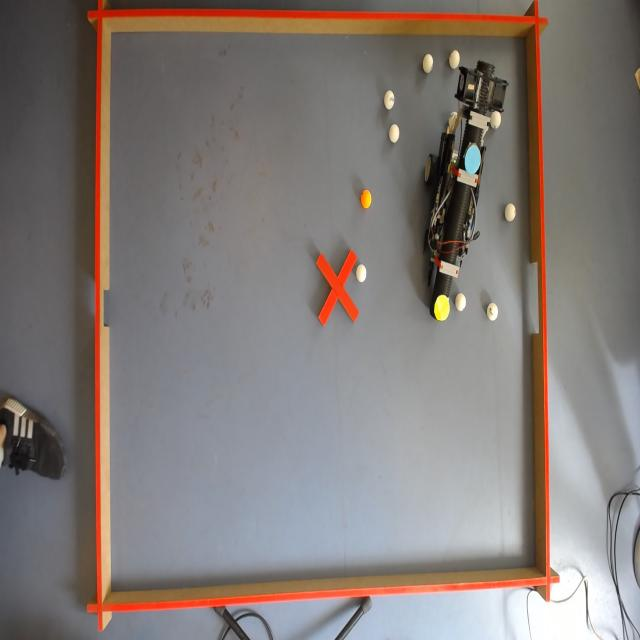orange: (360, 188, 372, 210)
robot: (423, 60, 503, 322)
robot-front: (434, 294, 450, 318)
robot-rear: (465, 144, 481, 176)
white: (356, 265, 370, 283), (389, 125, 402, 144), (422, 54, 434, 74), (505, 202, 517, 221), (384, 90, 396, 109), (449, 51, 460, 68), (455, 296, 466, 311), (487, 302, 497, 318)
